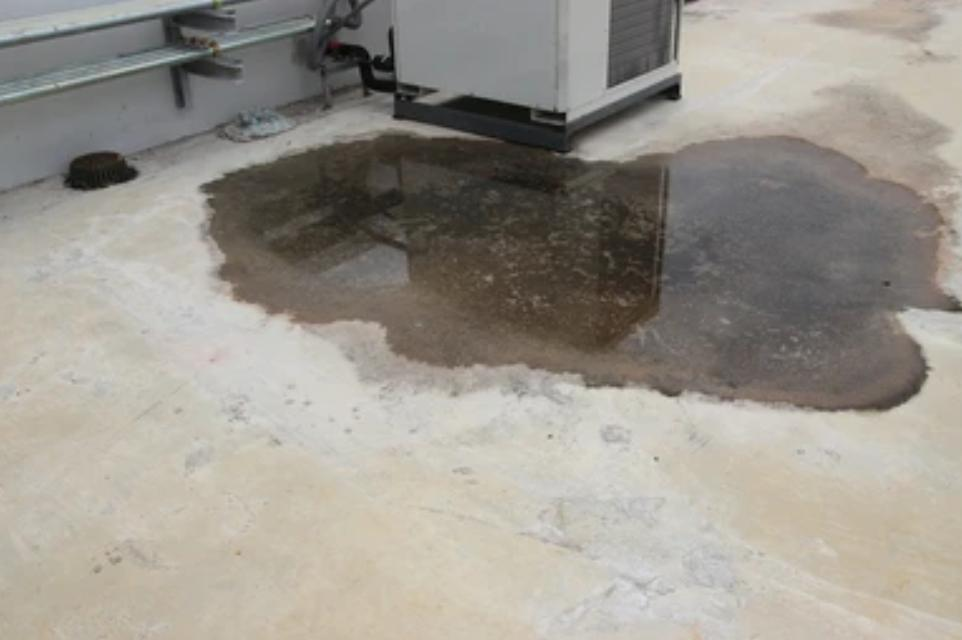water accumulation: (199, 129, 962, 411)
